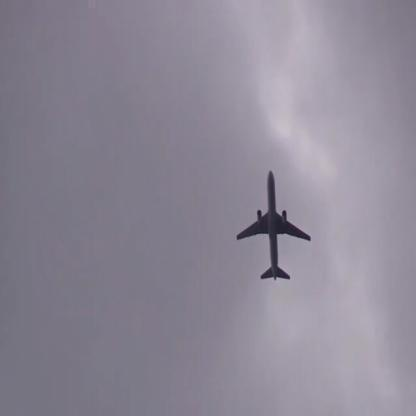aircraft: (237, 170, 313, 280)
